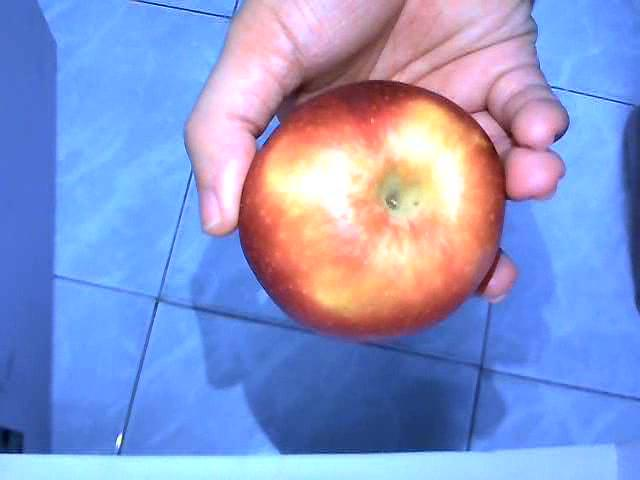apple: (236, 80, 505, 337)
